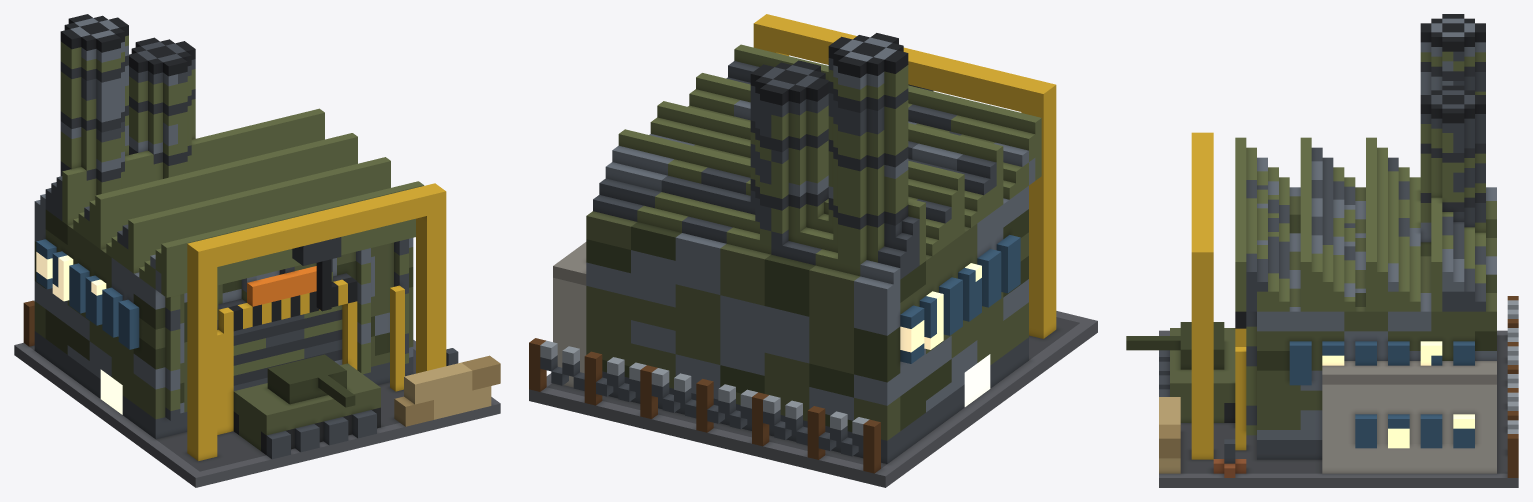
Rendered from cm_factory_5.glb.
3 renders of one model, left to right at view 1: azimuth 30°, elevation 25°; view 2: azimuth 150°, elevation 25°; view 3: azimuth 270°, elevation 25°, orthographic. The views are drawn at different scales.
Parts seen in each view (by area): view 1: cm_factory_5_body; view 2: cm_factory_5_body; view 3: cm_factory_5_body.
Part boxes in pixels (bbox=[...]): cm_factory_5_body: bbox=[14, 14, 500, 487]; cm_factory_5_body: bbox=[529, 14, 1097, 487]; cm_factory_5_body: bbox=[1126, 14, 1518, 487].
Size of the model in its own units: 2 by 2.12 by 2.25.
1 material, 1 textured.
